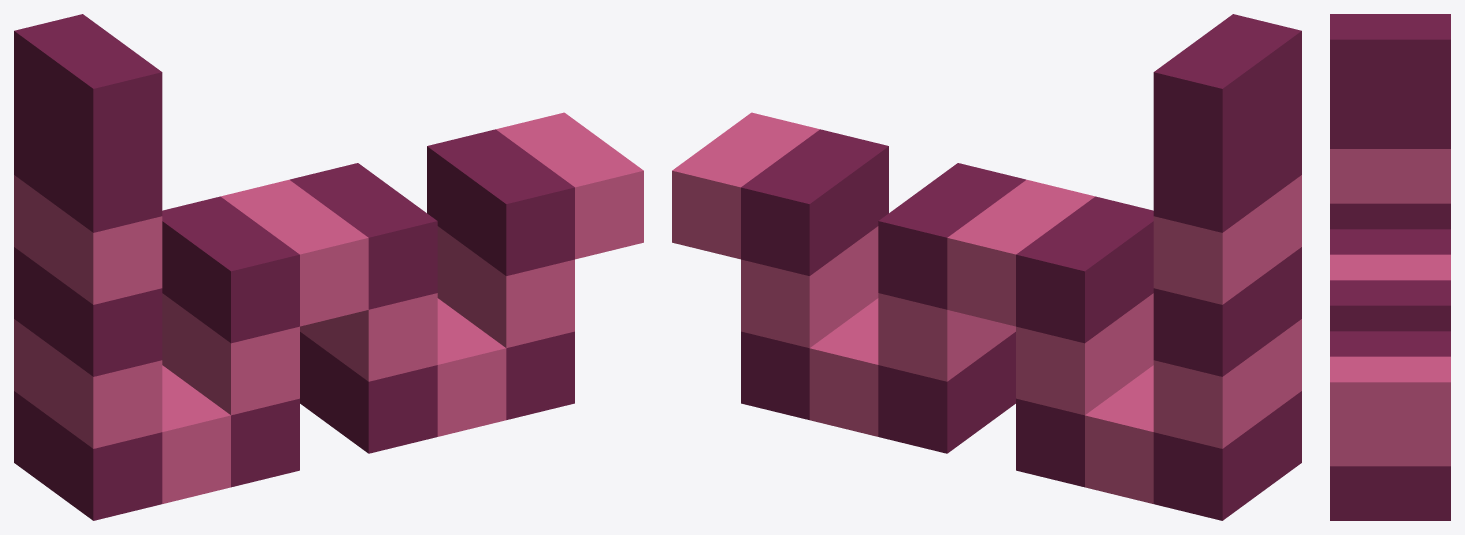
Rendered from Warm.obj.
3 views of the same model, side by side, from view 1: azimuth 30°, elevation 25°; view 2: azimuth 150°, elevation 25°; view 3: azimuth 270°, elevation 25° (orthographic). The views are drawn at different scales.
Size of the model in its own units: 0.8 by 0.6 by 0.2.
Materials: 1 (1 with a texture image).
